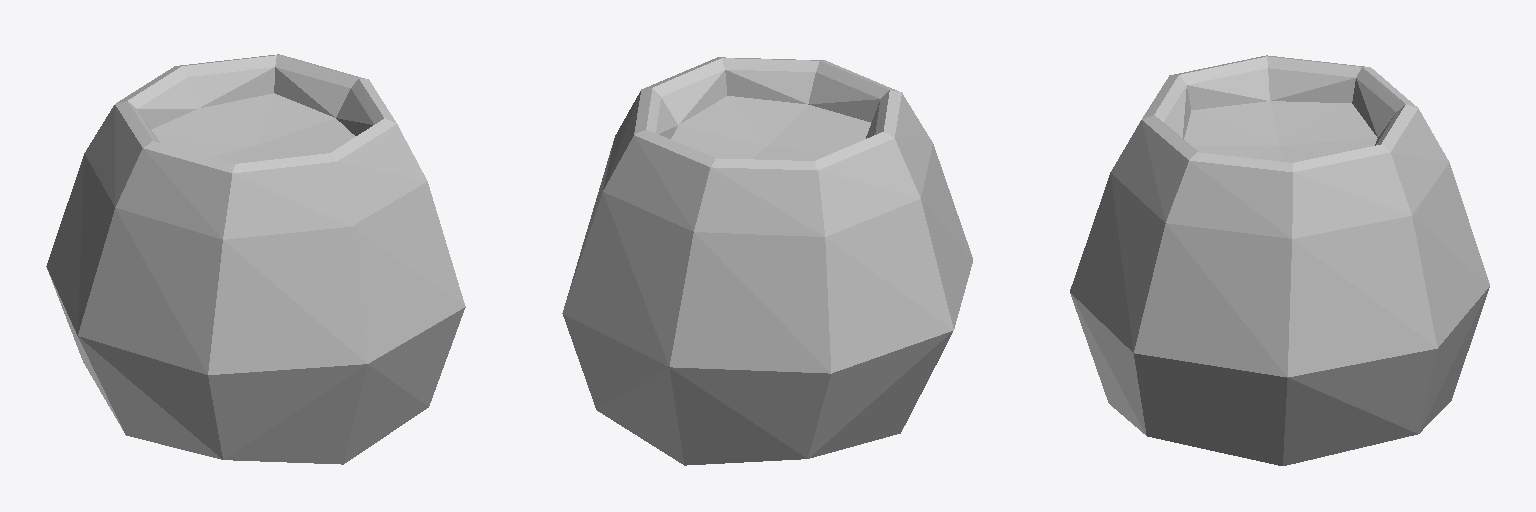
The model's file is cooking_pot.obj.
The picture shows the model from 3 angles: view 1: azimuth 30°, elevation 25°; view 2: azimuth 150°, elevation 25°; view 3: azimuth 270°, elevation 25°; orthographic projection.
Visible parts, largest first — view 1: Cooking_Pot_Cube; view 2: Cooking_Pot_Cube; view 3: Cooking_Pot_Cube.
Boxes of the visible parts, x1,y1,x2,y2 form: Cooking_Pot_Cube: [46, 54, 465, 464]; Cooking_Pot_Cube: [562, 57, 972, 465]; Cooking_Pot_Cube: [1070, 55, 1489, 465].
Bounding box in the file's own units: 0.9917 × 0.7614 × 0.9917.